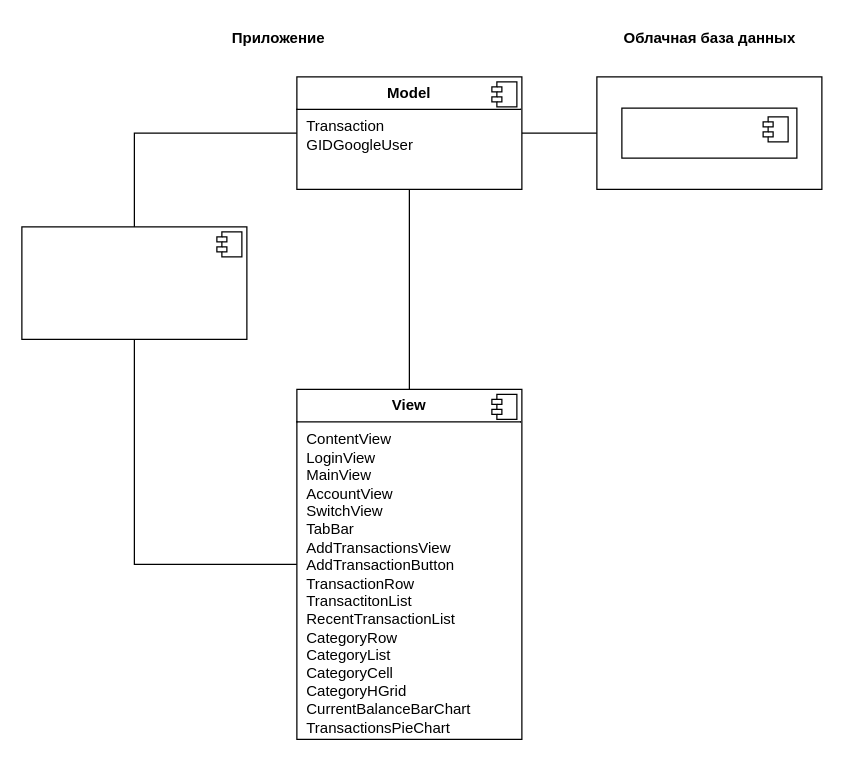
Image size: 844x761. Some labels were removed from this diagram. The shapes that lost their labels are listed below. From the top down, each one's box as (x1, y1, x2, y2) in pixels, then its label:
(621, 107, 797, 158): Транзакции
(21, 226, 247, 339): ViewModel TransactionsListViewModel AuthViewModel
